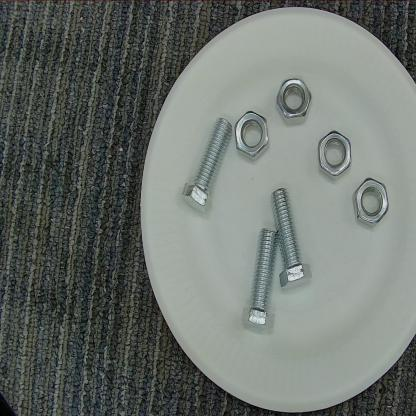FOD: (181, 112, 234, 222), (266, 180, 316, 295), (243, 222, 281, 338), (350, 173, 392, 231), (315, 128, 355, 188), (274, 72, 316, 126), (234, 106, 271, 166)
